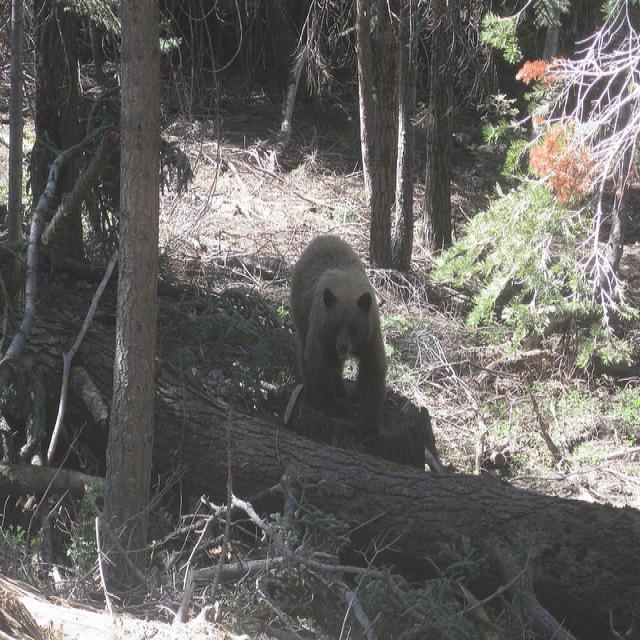Bear: (278, 227, 404, 441)
